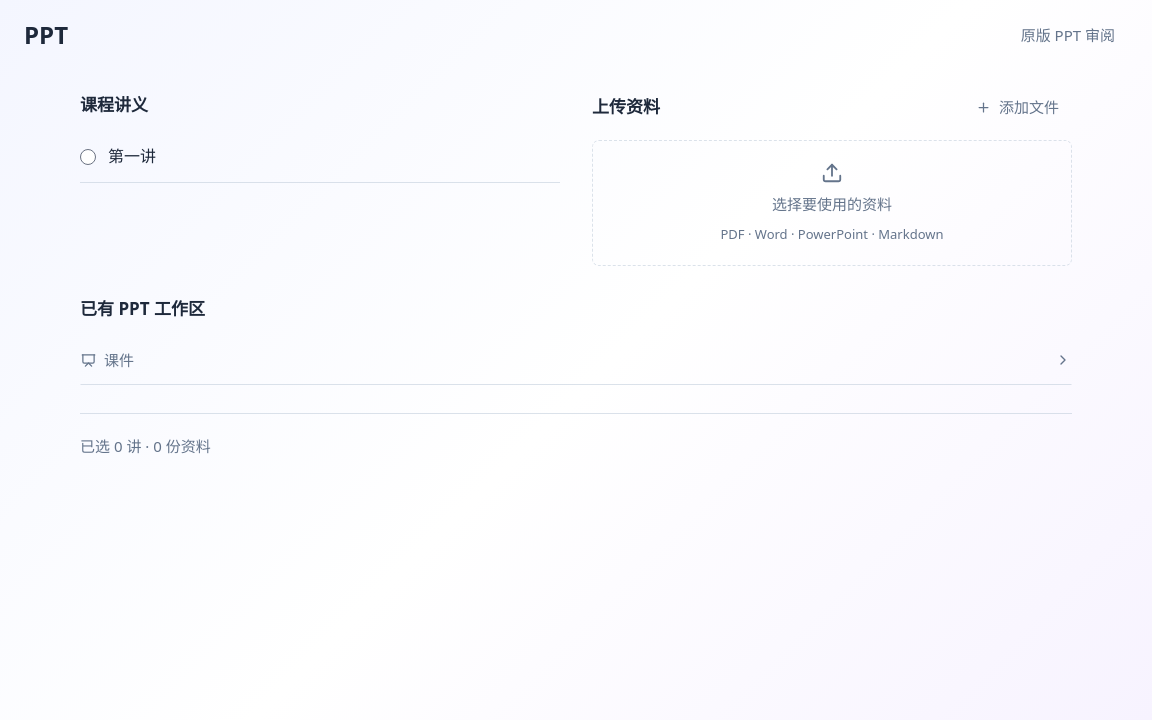
Test: keeps the source selection usable when opening a project fails
Click the button "课件": x=119, y=360 [80, 335, 1072, 385]
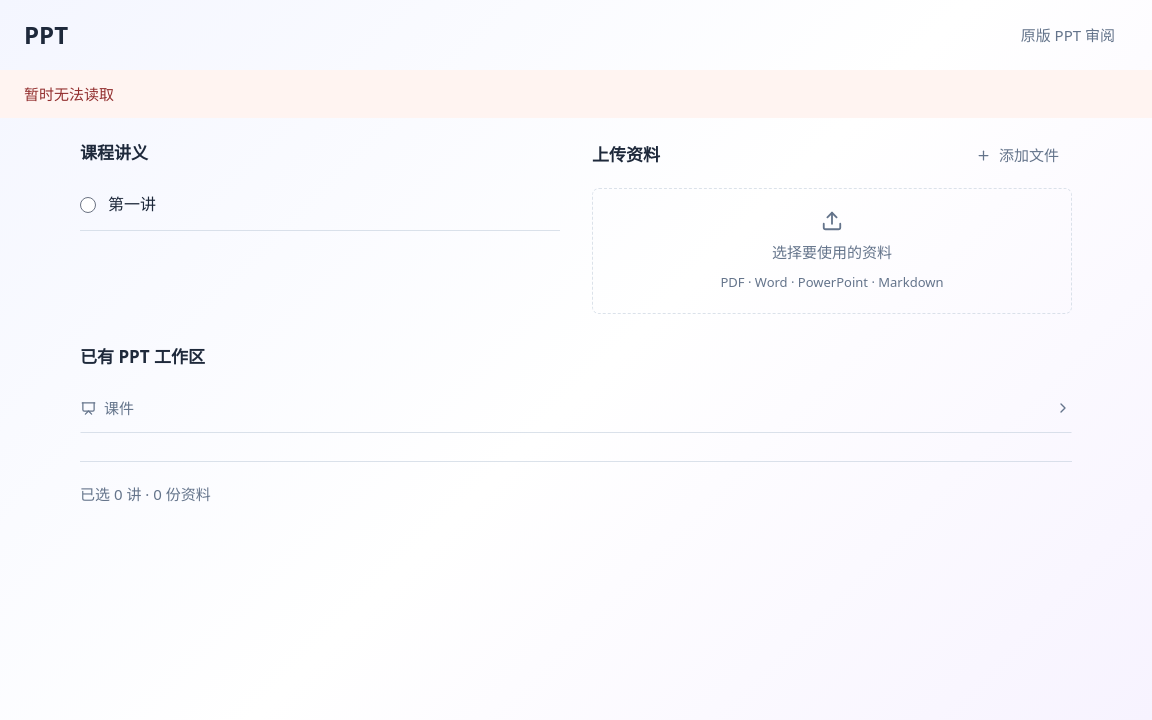
Check: the element that starts with "课程讲义" is shown, box [56, 118, 1096, 540]
Check: the text "暂时无法读取" is shown, box [0, 70, 1151, 118]
